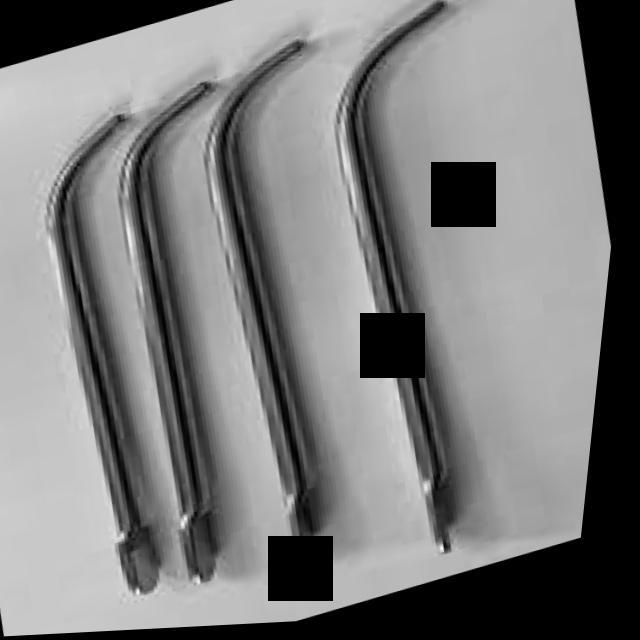Urethral Dilators: (278, 0, 592, 586), (144, 15, 447, 588), (49, 67, 344, 611), (0, 90, 251, 629)
